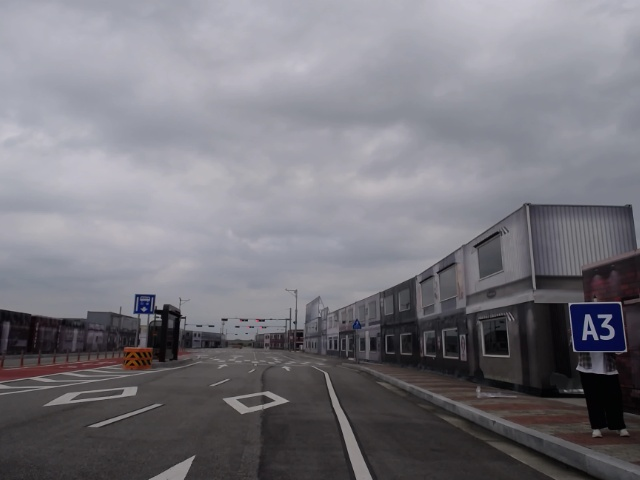delivery_a3: (568, 302, 627, 352)
